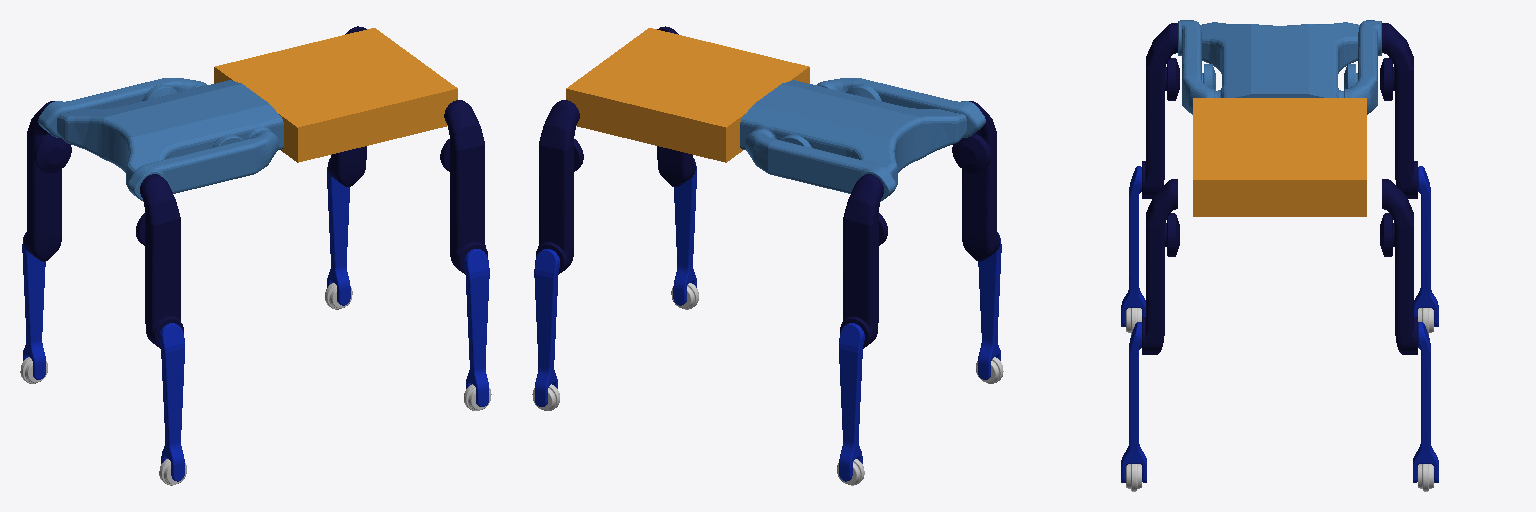
The robot description file, URDF, robot "solo":
<?xml version="1.0" ?>
<!-- =================================================================================== -->
<!-- |    This document was autogenerated by xacro from /usr/local/lib/python3.9/site-packages/robot_properties_solo/resources/xacro/solo8.urdf.xacro | -->
<!-- |    EDITING THIS FILE BY HAND IS NOT RECOMMENDED                                 | -->
<!-- =================================================================================== -->
<robot name="solo" xmlns:controller="http://playerstage.sourceforge.net/gazebo/xmlschema/#controller" xmlns:interface="http://playerstage.sourceforge.net/gazebo/xmlschema/#interface" xmlns:sensor="http://playerstage.sourceforge.net/gazebo/xmlschema/#sensor" xmlns:xacro="http://playerstage.sourceforge.net/gazebo/xmlschema/#interface">
  <!-- This file is based on: https://atlas.is.localnet/confluence/display/AMDW/Quadruped+URDF+Files -->
  <link name="torso_front">
    <!-- BASE LINK INERTIAL -->
    <inertial>
      <origin rpy="0 0 0" xyz="0 0 0"/>
      <!-- <mass value="0.71657546"/> -->
      <mass value="1.02195485"/>
      <!-- The base is extremely symmetrical. -->
      <!-- <inertia ixx="0.00289287" ixy="0.0" ixz="0.0" iyy="0.00969054" iyz="0.0" izz="0.01238062"/> -->
      <inertia ixx="0.00533767" ixy="-0.00000516" ixz="0.00000122" iyy="0.01314118" iyz="0.00000061" izz="0.01821833"/>
    </inertial>
    <!-- BASE LINK VISUAL -->
    <visual>
      <origin rpy="0 0 0" xyz="0.1 0 0"/>
      <geometry>
        <box size="0.2 0.18 0.042"/>
        <mesh filename="../meshes/solo_torso_front.dae"/>
      </geometry>
      <material name="ftorso_mat">
        <color rgba="0.9 0.6 0.2 1"/>
      </material>
    </visual>
    <!-- BASE LINK COLLISION -->
    <collision>
      <origin rpy="0 0 0" xyz="0 0 0"/>
      <geometry>
        <mesh filename="../meshes/solo_torso_front.dae"/>
      </geometry>
    </collision>
    <!-- Bullet specific paramters -->
    <contact>
      <lateral_friction value="1.0"/>
      <restitution value="0.5"/>
    </contact>
  </link>
  <!-- SPIN:Between the torso -->
  <joint name="spine_joint" type="revolute">
    <parent link="torso_front"/>
    <child link="torso_back"/>
    <limit effort="1.154579" lower="-4" upper="4" velocity="25"/>
    <!-- joints rotates around the y-axis -->
    <axis xyz="1 0 0"/>
    <origin rpy="0 0 0" xyz="0 0 0"/>
    <!-- pybullet simulation parameters -->
    <dynamics damping="0.0" friction="0.0"/>
  </joint>
  <link name="torso_back">
    <!-- BASE LINK INERTIAL -->
    <inertial>
      <origin rpy="0 0 0" xyz="0 0 0"/>
      <!-- <mass value="0.71657546"/> -->
      <mass value="1.02195485"/>
      <!-- The base is extremely symmetrical. -->
      <!-- <inertia ixx="0.00289287" ixy="0.0" ixz="0.0" iyy="0.00969054" iyz="0.0" izz="0.01238062"/> -->
      <inertia ixx="0.00533767" ixy="-0.00000516" ixz="0.00000122" iyy="0.01314118" iyz="0.00000061" izz="0.01821833"/>
    </inertial>
    <!-- BASE LINK VISUAL -->
    <visual>
      <origin rpy="0 0 0" xyz="0 0 0"/>
      <geometry>
        <mesh filename="../meshes/solo_torso_back.dae"/>
      </geometry>
      <material name="btorso_mat">
        <color rgba="0.3 0.5 0.7 1"/>
      </material>
    </visual>
    <!-- BASE LINK COLLISION -->
    <collision>
      <origin rpy="0 0 0" xyz="0 0 0"/>
      <geometry>
        <mesh filename="../meshes/solo_torso_back.dae"/>
      </geometry>
    </collision>
    <!-- Bullet specific paramters -->
    <contact>
      <lateral_friction value="1.0"/>
      <restitution value="0.5"/>
    </contact>
  </link>
  <!-- END BASE LINK -->
  <!-- Joint between the base and the ${prefix} upper leg -->
  <joint name="FL_HFE" type="revolute">
    <parent link="torso_front"/>
    <child link="FL_UPPER_LEG"/>
    <limit effort="1.154579" lower="0" upper="1.5707963" velocity="15"/>
    <!-- joints rotates around the y-axis -->
    <axis xyz="0 1 0"/>
    <origin rpy="0 0 0" xyz="0.19 0.1046 0"/>
    <!-- pybullet simulation parameters -->
    <dynamics damping="0.0" friction="0.0"/>
  </joint>
  <link name="FL_UPPER_LEG">
    <!-- Left upper leg inertia -->
    <inertial>
      <origin rpy="0 0 0" xyz="0.00001377 0.01935853 -0.07870700"/>
      <mass value="0.14853845"/>
      <inertia ixx="0.00041107" ixy="0.0" ixz="0.0" iyy="0.00041193" iyz="0.00004671" izz="0.00003024"/>
    </inertial>
    <!-- UPPER LEG LINK VISUAL -->
    <visual>
      <origin rpy="0 0 0" xyz="0 0 0"/>
      <geometry>
        <mesh filename="../meshes/solo_upper_leg_left_side.dae"/>
      </geometry>
      <material name="fthigh_mat">
        <color rgba="0.1 0.1 0.3 1"/>
      </material>
    </visual>
    <!-- UPPER LEG LINK COLLISION -->
    <collision>
      <origin rpy="0 0 0" xyz="0 0 0"/>
      <geometry>
        <mesh filename="../meshes/solo_upper_leg_left_side.dae"/>
      </geometry>
    </collision>
    <!-- Bullet specific paramters -->
    <contact>
      <lateral_friction value="1.0"/>
      <restitution value="0.5"/>
    </contact>
  </link>
  <!-- END UPPER LEG LINK -->
  <!-- KFE: Joint between the upper leg and the lower leg -->
  <joint name="FL_KFE" type="revolute">
    <parent link="FL_UPPER_LEG"/>
    <child link="FL_LOWER_LEG"/>
    <limit effort="1.154579" lower="-3.14" upper="0" velocity="15"/>
    <!-- joints rotates around the y-axis -->
    <axis xyz="0 1 0"/>
    <origin rpy="0 0 0" xyz="0 0.037450000000000004 -0.16"/>
    <!-- pybullet simulation parameters -->
    <dynamics damping="0.0" friction="0.0"/>
  </joint>
  <link name="FL_LOWER_LEG">
    <!-- Left lower leg inertia -->
    <inertial>
      <origin rpy="0 0 0" xyz="0.0 0.00787644 -0.08928215"/>
      <mass value="0.03070001"/>
      <inertia ixx="0.00012024" ixy="0.0" ixz="0.0" iyy="0.00012029" iyz="0.00000305" izz="0.00000216"/>
    </inertial>
    <!-- LOWER LEG LINK VISUAL -->
    <visual>
      <origin rpy="0 0 0" xyz="0 0.015 -0.08"/>
      <geometry>
        <!-- sphere radius taken from shell radius in CAD files-->
        <box size="0.02 0.012 0.13"/>
      </geometry>
      <origin rpy="0 0 0" xyz="0 0 0"/>
      <geometry>
        <mesh filename="../meshes/solo_lower_leg_left_side.dae"/>
      </geometry>
      <material name="fshin_mat">
        <color rgba="0.1 0.2 0.7 0.4"/>
      </material>
    </visual>
    <!-- LOWER LEG LINK COLLISION -->
    <collision>
      <origin rpy="0 0 0" xyz="0 0 0"/>
      <geometry>
        <mesh filename="../meshes/solo_lower_leg_left_side.dae"/>
      </geometry>
    </collision>
    <!-- Bullet specific paramters -->
    <contact>
      <lateral_friction value="1.0"/>
      <restitution value="0.5"/>
    </contact>
  </link>
  <!-- END LOWER LEG LINK -->
  <!-- KFE: Joint between the upper leg and the lower leg -->
  <joint name="FL_ANKLE" type="fixed" dont_collapse="true">
    <parent link="FL_LOWER_LEG"/>
    <child link="FL_FOOT"/>
    <origin rpy="0 0 0" xyz="0 0.008 -0.16"/>
    <!-- pybullet simulation parameters -->
    <dynamics damping="0.0" friction="0.0"/>
  </joint>
  <link name="FL_FOOT">
    <!-- FOOT INERTIAL -->
    <!-- This link is symmetrical left or right -->
    <inertial>
      <origin rpy="0 0 0" xyz="0 0 0.00035767"/>
      <mass value="0.00693606"/>
      <inertia ixx="0.00000057" ixy="0.0" ixz="0.0" iyy="0.00000084" iyz="0.0" izz="0.00000053"/>
    </inertial>
    <!-- FOOT VISUAL -->
    <visual>
      <origin rpy="0 0 0" xyz="0 0 0"/>
      <geometry>
        <mesh filename="../meshes/solo_foot.dae"/>
      </geometry>
      <material name="grey">
        <color rgba="0.8 0.8 0.8 1.0"/>
      </material>
    </visual>
    <!-- FOOT COLLISION -->
    <collision>
      <origin rpy="0 0 0" xyz="0 0 0"/>
      <geometry>
        <mesh filename="../meshes/solo_foot.dae"/>
      </geometry>
    </collision>
    <!-- Bullet specific paramters -->
    <contact>
      <lateral_friction value="1.0"/>
      <restitution value="0.5"/>
    </contact>
  </link>
  <!-- END LOWER LEG LINK -->
  <!-- Joint between the base and the ${prefix} upper leg -->
  <joint name="FR_HFE" type="revolute">
    <parent link="torso_front"/>
    <child link="FR_UPPER_LEG"/>
    <limit effort="1.154579" lower="0" upper="1.5707963" velocity="15"/>
    <!-- joints rotates around the y-axis -->
    <axis xyz="0 1 0"/>
    <origin rpy="0 0 0" xyz="0.19 -0.1046 0"/>
    <!-- pybullet simulation parameters -->
    <dynamics damping="0.0" friction="0.0"/>
  </joint>
  <link name="FR_UPPER_LEG">
    <!-- Right upper leg inertia -->
    <inertial>
      <origin rpy="0 0 0" xyz="-0.00001377 -0.01935853 -0.07870700"/>
      <mass value="0.14853845"/>
      <inertia ixx="0.00041107" ixy="0.0" ixz="0.0" iyy="0.00041193" iyz="-0.00004671" izz="0.00003024"/>
    </inertial>
    <!-- UPPER LEG LINK VISUAL -->
    <visual>
      <origin rpy="0 0 0" xyz="0 0 0"/>
      <geometry>
        <mesh filename="../meshes/solo_upper_leg_right_side.dae"/>
      </geometry>
      <material name="fthigh_mat">
        <color rgba="0.1 0.1 0.3 1"/>
      </material>
    </visual>
    <!-- UPPER LEG LINK COLLISION -->
    <collision>
      <origin rpy="0 0 0" xyz="0 0 0"/>
      <geometry>
        <mesh filename="../meshes/solo_upper_leg_right_side.dae"/>
      </geometry>
    </collision>
    <!-- Bullet specific paramters -->
    <contact>
      <lateral_friction value="1.0"/>
      <restitution value="0.5"/>
    </contact>
  </link>
  <!-- END UPPER LEG LINK -->
  <!-- KFE: Joint between the upper leg and the lower leg -->
  <joint name="FR_KFE" type="revolute">
    <parent link="FR_UPPER_LEG"/>
    <child link="FR_LOWER_LEG"/>
    <limit effort="1.154579" lower="-3.14" upper="0" velocity="15"/>
    <!-- joints rotates around the y-axis -->
    <axis xyz="0 1 0"/>
    <origin rpy="0 0 0" xyz="0 -0.037450000000000004 -0.16"/>
    <!-- pybullet simulation parameters -->
    <dynamics damping="0.0" friction="0.0"/>
  </joint>
  <link name="FR_LOWER_LEG">
    <!-- Right lower leg inertia -->
    <inertial>
      <origin rpy="0 0 0" xyz="0.0 0.00787644 -0.08928215"/>
      <mass value="0.03070001"/>
      <inertia ixx="0.00012024" ixy="0.0" ixz="0.0" iyy="0.00012029" iyz="-0.00000305" izz="0.00000216"/>
    </inertial>
    <!-- LOWER LEG LINK VISUAL -->
    <visual>
      <origin rpy="0 0 0" xyz="0 0 0"/>
      <geometry>
        <mesh filename="../meshes/solo_lower_leg_right_side.dae"/>
      </geometry>
      <material name="fshin_mat">
        <color rgba="0.1 0.2 0.7 0.4"/>
      </material>
    </visual>
    <!-- LOWER LEG LINK COLLISION -->
    <collision>
      <origin rpy="0 0 0" xyz="0 0 0"/>
      <geometry>
        <mesh filename="../meshes/solo_lower_leg_right_side.dae"/>
      </geometry>
    </collision>
    <!-- Bullet specific paramters -->
    <contact>
      <lateral_friction value="1.0"/>
      <restitution value="0.5"/>
    </contact>
  </link>
  <!-- END LOWER LEG LINK -->
  <!-- KFE: Joint between the upper leg and the lower leg -->
  <joint name="FR_ANKLE" type="fixed" dont_collapse="true">
    <parent link="FR_LOWER_LEG"/>
    <child link="FR_FOOT"/>
    <origin rpy="0 0 0" xyz="0 -0.008 -0.16"/>
    <!-- pybullet simulation parameters -->
    <dynamics damping="0.0" friction="0.0"/>
  </joint>
  <link name="FR_FOOT">
    <!-- FOOT INERTIAL -->
    <!-- This link is symmetrical left or right -->
    <inertial>
      <origin rpy="0 0 0" xyz="0 0 0.00035767"/>
      <mass value="0.00693606"/>
      <inertia ixx="0.00000057" ixy="0.0" ixz="0.0" iyy="0.00000084" iyz="0.0" izz="0.00000053"/>
    </inertial>
    <!-- FOOT VISUAL -->
    <visual>
      <origin rpy="0 0 0" xyz="0 0 0"/>
      <geometry>
        <mesh filename="../meshes/solo_foot.dae"/>
      </geometry>
      <material name="grey">
        <color rgba="0.8 0.8 0.8 1.0"/>
      </material>
    </visual>
    <!-- FOOT COLLISION -->
    <collision>
      <origin rpy="0 0 0" xyz="0 0 0"/>
      <geometry>
        <mesh filename="../meshes/solo_foot.dae"/>
      </geometry>
    </collision>
    <!-- Bullet specific paramters -->
    <contact>
      <lateral_friction value="1.0"/>
      <restitution value="0.5"/>
    </contact>
  </link>
  <!-- END LOWER LEG LINK -->
  <!-- Joint between the base and the ${prefix} upper leg -->
  <joint name="HL_HFE" type="revolute">
    <parent link="torso_back"/>
    <child link="HL_UPPER_LEG"/>
    <limit effort="1.154579" lower="-1.5707963" upper="0" velocity="15"/>
    <!-- joints rotates around the y-axis -->
    <axis xyz="0 1 0"/>
    <origin rpy="0 0 0" xyz="-0.19 0.1046 0"/>
    <!-- pybullet simulation parameters -->
    <dynamics damping="0.0" friction="0.0"/>
  </joint>
  <link name="HL_UPPER_LEG">
    <!-- Left upper leg inertia -->
    <inertial>
      <origin rpy="0 0 0" xyz="0.00001377 0.01935853 -0.07870700"/>
      <mass value="0.14853845"/>
      <inertia ixx="0.00041107" ixy="0.0" ixz="0.0" iyy="0.00041193" iyz="0.00004671" izz="0.00003024"/>
    </inertial>
    <!-- UPPER LEG LINK VISUAL -->
    <visual>
      <origin rpy="0 0 0" xyz="0 0 0"/>
      <geometry>
        <mesh filename="../meshes/solo_upper_leg_left_side.dae"/>
      </geometry>
      <material name="bthigh_mat">
        <color rgba="0.1 0.1 0.3 1"/>
      </material>
    </visual>
    <!-- UPPER LEG LINK COLLISION -->
    <collision>
      <origin rpy="0 0 0" xyz="0 0 0"/>
      <geometry>
        <mesh filename="../meshes/solo_upper_leg_left_side.dae"/>
      </geometry>
    </collision>
    <!-- Bullet specific paramters -->
    <contact>
      <lateral_friction value="1.0"/>
      <restitution value="0.5"/>
    </contact>
  </link>
  <!-- END UPPER LEG LINK -->
  <!-- KFE: Joint between the upper leg and the lower leg -->
  <joint name="HL_KFE" type="revolute">
    <parent link="HL_UPPER_LEG"/>
    <child link="HL_LOWER_LEG"/>
    <limit effort="1.154579" lower="0" upper="3.14" velocity="15"/>
    <!-- joints rotates around the y-axis -->
    <axis xyz="0 1 0"/>
    <origin rpy="0 0 0" xyz="0 0.037450000000000004 -0.16"/>
    <!-- pybullet simulation parameters -->
    <dynamics damping="0.0" friction="0.0"/>
  </joint>
  <link name="HL_LOWER_LEG">
    <!-- Left lower leg inertia -->
    <inertial>
      <origin rpy="0 0 0" xyz="0.0 0.00787644 -0.08928215"/>
      <mass value="0.03070001"/>
      <inertia ixx="0.00012024" ixy="0.0" ixz="0.0" iyy="0.00012029" iyz="0.00000305" izz="0.00000216"/>
    </inertial>
    <!-- LOWER LEG LINK VISUAL -->
    <visual>
      <origin rpy="0 0 0" xyz="0 0 0"/>
      <geometry>
        <mesh filename="../meshes/solo_lower_leg_left_side.dae"/>
      </geometry>
      <material name="bshin_mat">
        <color rgba="0.1 0.2 0.7 0.4"/>
      </material>
    </visual>
    <!-- LOWER LEG LINK COLLISION -->
    <collision>
      <origin rpy="0 0 0" xyz="0 0 0"/>
      <geometry>
        <mesh filename="../meshes/solo_lower_leg_left_side.dae"/>
      </geometry>
    </collision>
    <!-- Bullet specific paramters -->
    <contact>
      <lateral_friction value="1.0"/>
      <restitution value="0.5"/>
    </contact>
  </link>
  <!-- END LOWER LEG LINK -->
  <!-- KFE: Joint between the upper leg and the lower leg -->
  <joint name="HL_ANKLE" type="fixed" dont_collapse="true">
    <parent link="HL_LOWER_LEG"/>
    <child link="HL_FOOT"/>
    <origin rpy="0 0 0" xyz="0 0.008 -0.16"/>
    <!-- pybullet simulation parameters -->
    <dynamics damping="0.0" friction="0.0"/>
  </joint>
  <link name="HL_FOOT">
    <!-- FOOT INERTIAL -->
    <!-- This link is symmetrical left or right -->
    <inertial>
      <origin rpy="0 0 0" xyz="0 0 0.00035767"/>
      <mass value="0.00693606"/>
      <inertia ixx="0.00000057" ixy="0.0" ixz="0.0" iyy="0.00000084" iyz="0.0" izz="0.00000053"/>
    </inertial>
    <!-- FOOT VISUAL -->
    <visual>
      <origin rpy="0 0 0" xyz="0 0 0"/>
      <geometry>
        <mesh filename="../meshes/solo_foot.dae"/>
      </geometry>
      <material name="grey">
        <color rgba="0.8 0.8 0.8 1.0"/>
      </material>
    </visual>
    <!-- FOOT COLLISION -->
    <collision>
      <origin rpy="0 0 0" xyz="0 0 0"/>
      <geometry>
        <mesh filename="../meshes/solo_foot.dae"/>
      </geometry>
    </collision>
    <!-- Bullet specific paramters -->
    <contact>
      <lateral_friction value="1.0"/>
      <restitution value="0.5"/>
    </contact>
  </link>
  <!-- END LOWER LEG LINK -->
  <!-- Joint between the base and the ${prefix} upper leg -->
  <joint name="HR_HFE" type="revolute">
    <parent link="torso_back"/>
    <child link="HR_UPPER_LEG"/>
    <!-- joints rotates around the y-axis -->
    <limit effort="1.154579" lower="-1.5707963" upper="0" velocity="15"/>
    <axis xyz="0 1 0"/>
    <origin rpy="0 0 0" xyz="-0.19 -0.1046 0"/>
    <!-- pybullet simulation parameters -->
    <dynamics damping="0.0" friction="0.0"/>
  </joint>
  <link name="HR_UPPER_LEG">
    <!-- Right upper leg inertia -->
    <inertial>
      <origin rpy="0 0 0" xyz="-0.00001377 -0.01935853 -0.07870700"/>
      <mass value="0.14853845"/>
      <inertia ixx="0.00041107" ixy="0.0" ixz="0.0" iyy="0.00041193" iyz="-0.00004671" izz="0.00003024"/>
    </inertial>
    <!-- UPPER LEG LINK VISUAL -->
    <visual>
      <origin rpy="0 0 0" xyz="0 0 0"/>
      <geometry>
        <mesh filename="../meshes/solo_upper_leg_right_side.dae"/>
      </geometry>
      <material name="bthigh_mat">
        <color rgba="0.1 0.1 0.3 1"/>
      </material>
    </visual>
    <!-- UPPER LEG LINK COLLISION -->
    <collision>
      <origin rpy="0 0 0" xyz="0 0 0"/>
      <geometry>
        <mesh filename="../meshes/solo_upper_leg_right_side.dae"/>
      </geometry>
    </collision>
    <!-- Bullet specific paramters -->
    <contact>
      <lateral_friction value="1.0"/>
      <restitution value="0.5"/>
    </contact>
  </link>
  <!-- END UPPER LEG LINK -->
  <!-- KFE: Joint between the upper leg and the lower leg -->
  <joint name="HR_KFE" type="revolute">
    <parent link="HR_UPPER_LEG"/>
    <child link="HR_LOWER_LEG"/>
    <limit effort="1.154579" lower="0" upper="3.14" velocity="15"/>
    <!-- joints rotates around the y-axis -->
    <axis xyz="0 1 0"/>
    <origin rpy="0 0 0" xyz="0 -0.037450000000000004 -0.16"/>
    <!-- pybullet simulation parameters -->
    <dynamics damping="0.0" friction="0.0"/>
  </joint>
  <link name="HR_LOWER_LEG">
    <!-- Right lower leg inertia -->
    <inertial>
      <origin rpy="0 0 0" xyz="0.0 0.00787644 -0.08928215"/>
      <mass value="0.03070001"/>
      <inertia ixx="0.00012024" ixy="0.0" ixz="0.0" iyy="0.00012029" iyz="-0.00000305" izz="0.00000216"/>
    </inertial>
    <!-- LOWER LEG LINK VISUAL -->
    <visual>
      <origin rpy="0 0 0" xyz="0 0 0"/>
      <geometry>
        <mesh filename="../meshes/solo_lower_leg_right_side.dae"/>
      </geometry>
      <material name="bshin_mat">
        <color rgba="0.1 0.2 0.7 0.4"/>
      </material>
    </visual>
    <!-- LOWER LEG LINK COLLISION -->
    <collision>
      <origin rpy="0 0 0" xyz="0 0 0"/>
      <geometry>
        <mesh filename="../meshes/solo_lower_leg_right_side.dae"/>
      </geometry>
    </collision>
    <!-- Bullet specific paramters -->
    <contact>
      <lateral_friction value="1.0"/>
      <restitution value="0.5"/>
    </contact>
  </link>
  <!-- END LOWER LEG LINK -->
  <!-- KFE: Joint between the upper leg and the lower leg -->
  <joint name="HR_ANKLE" type="fixed" dont_collapse="true">
    <parent link="HR_LOWER_LEG"/>
    <child link="HR_FOOT"/>
    <origin rpy="0 0 0" xyz="0 -0.008 -0.16"/>
    <!-- pybullet simulation parameters -->
    <dynamics damping="0.0" friction="0.0"/>
  </joint>
  <link name="HR_FOOT">
    <!-- FOOT INERTIAL -->
    <!-- This link is symmetrical left or right -->
    <inertial>
      <origin rpy="0 0 0" xyz="0 0 0.00035767"/>
      <mass value="0.00693606"/>
      <inertia ixx="0.00000057" ixy="0.0" ixz="0.0" iyy="0.00000084" iyz="0.0" izz="0.00000053"/>
    </inertial>
    <!-- FOOT VISUAL -->
    <visual>
      <origin rpy="0 0 0" xyz="0 0 0"/>
      <geometry>
        <mesh filename="../meshes/solo_foot.dae"/>
      </geometry>
      <material name="grey">
        <color rgba="0.8 0.8 0.8 1.0"/>
      </material>
    </visual>
    <!-- FOOT COLLISION -->
    <collision>
      <origin rpy="0 0 0" xyz="0 0 0"/>
      <geometry>
        <mesh filename="../meshes/solo_foot.dae"/>
      </geometry>
    </collision>
    <!-- Bullet specific paramters -->
    <contact>
      <lateral_friction value="1.0"/>
      <restitution value="0.5"/>
    </contact>
  </link>
  <!-- END LOWER LEG LINK -->
</robot>

--- What the picture shows (computed from the rendered views, not written in the file) ---
3 views of the same robot in one strip: view 1: azimuth 30°, elevation 25°; view 2: azimuth 150°, elevation 25°; view 3: azimuth 270°, elevation 25° (orthographic).
Model solo with 14 links and 13 joints (9 revolute, 4 fixed), rooted at torso_front, posed every joint at zero.
Visible links, largest first — view 1: torso_back, torso_front, HR_UPPER_LEG, FR_UPPER_LEG, HL_UPPER_LEG, HR_LOWER_LEG, FR_LOWER_LEG, FL_LOWER_LEG, HL_LOWER_LEG, FL_UPPER_LEG; view 2: torso_back, torso_front, HL_UPPER_LEG, FL_UPPER_LEG, HR_UPPER_LEG, HL_LOWER_LEG, FL_LOWER_LEG, FR_LOWER_LEG, HR_LOWER_LEG, FR_UPPER_LEG; view 3: torso_front, torso_back, FL_UPPER_LEG, FR_UPPER_LEG, HL_UPPER_LEG, HR_UPPER_LEG, FL_LOWER_LEG, FR_LOWER_LEG, HL_LOWER_LEG, HR_LOWER_LEG.
Link boxes in pixels (x1=…): torso_back: x1=38, y1=78, x2=283, y2=201; torso_front: x1=214, y1=28, x2=457, y2=162; HR_UPPER_LEG: x1=136, y1=174, x2=183, y2=348; FR_UPPER_LEG: x1=440, y1=100, x2=487, y2=274; HL_UPPER_LEG: x1=24, y1=101, x2=71, y2=261; HR_LOWER_LEG: x1=159, y1=323, x2=184, y2=481; FR_LOWER_LEG: x1=464, y1=249, x2=489, y2=406; FL_LOWER_LEG: x1=327, y1=159, x2=350, y2=305; HL_LOWER_LEG: x1=22, y1=233, x2=45, y2=379; FL_UPPER_LEG: x1=328, y1=26, x2=366, y2=186; torso_back: x1=740, y1=78, x2=985, y2=201; torso_front: x1=566, y1=28, x2=809, y2=162; HL_UPPER_LEG: x1=840, y1=174, x2=887, y2=348; FL_UPPER_LEG: x1=536, y1=100, x2=583, y2=274; HR_UPPER_LEG: x1=952, y1=101, x2=999, y2=261; HL_LOWER_LEG: x1=839, y1=323, x2=864, y2=481; FL_LOWER_LEG: x1=534, y1=249, x2=559, y2=406; FR_LOWER_LEG: x1=673, y1=159, x2=696, y2=305; HR_LOWER_LEG: x1=978, y1=233, x2=1001, y2=379; FR_UPPER_LEG: x1=657, y1=26, x2=695, y2=186; torso_front: x1=1193, y1=98, x2=1366, y2=216; torso_back: x1=1178, y1=20, x2=1381, y2=114; FL_UPPER_LEG: x1=1380, y1=179, x2=1417, y2=354; FR_UPPER_LEG: x1=1142, y1=179, x2=1179, y2=354; HL_UPPER_LEG: x1=1380, y1=23, x2=1417, y2=198; HR_UPPER_LEG: x1=1142, y1=23, x2=1179, y2=198; FL_LOWER_LEG: x1=1413, y1=322, x2=1438, y2=482; FR_LOWER_LEG: x1=1121, y1=322, x2=1146, y2=482; HL_LOWER_LEG: x1=1414, y1=166, x2=1438, y2=326; HR_LOWER_LEG: x1=1121, y1=166, x2=1145, y2=326.
Size in the robot's own frame: 0.4244 by 0.327 by 0.361 metres.
13 mesh visuals loaded from 6 distinct referenced files (6 Collada DAE).
